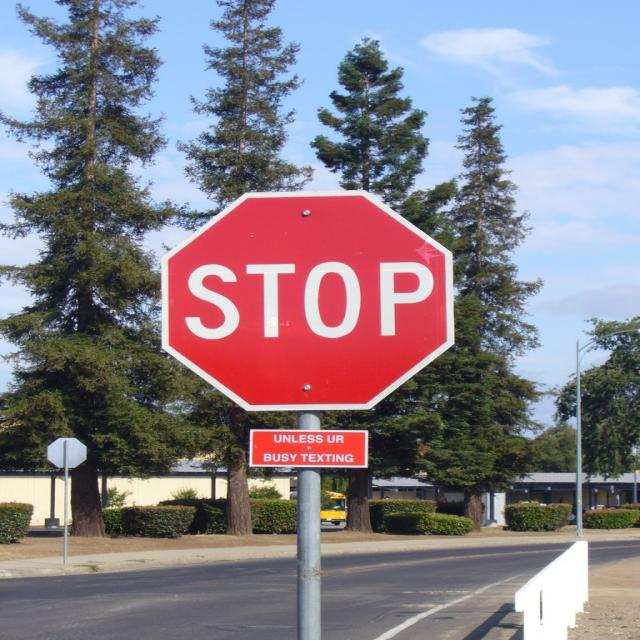Stop-sign: (159, 190, 455, 414)
